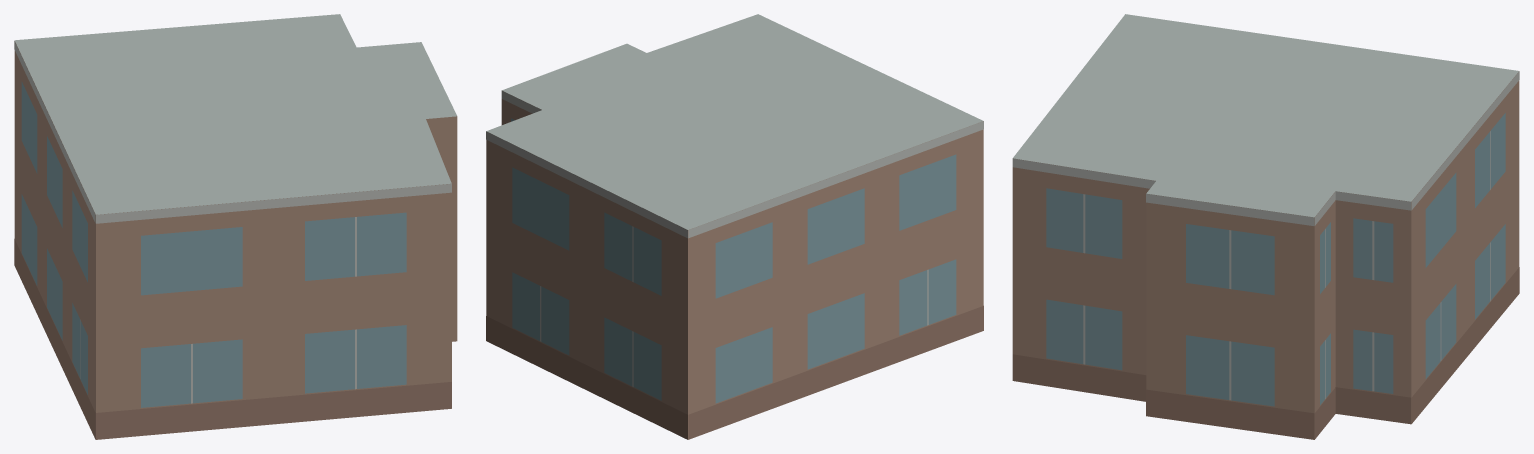
The model's file is survey-upis-32913695.glb.
The picture shows the model from 3 angles, left to right: view 1: azimuth 30°, elevation 25°; view 2: azimuth 150°, elevation 25°; view 3: azimuth 270°, elevation 25°; orthographic projection. The views are drawn at different scales.
Parts seen in each view (by area): view 1: survey-upis-32913695.tmp; view 2: survey-upis-32913695.tmp; view 3: survey-upis-32913695.tmp.
Boxes of the visible parts, box(x1,y1,x2,y2) form: survey-upis-32913695.tmp: box(14, 14, 457, 439); survey-upis-32913695.tmp: box(486, 14, 983, 439); survey-upis-32913695.tmp: box(1012, 14, 1519, 439).
Size of the model in its own units: 11.97 by 6.1 by 12.6.
